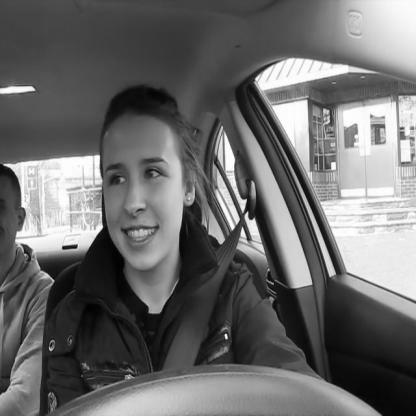seatbelt: (79, 64, 268, 376)
